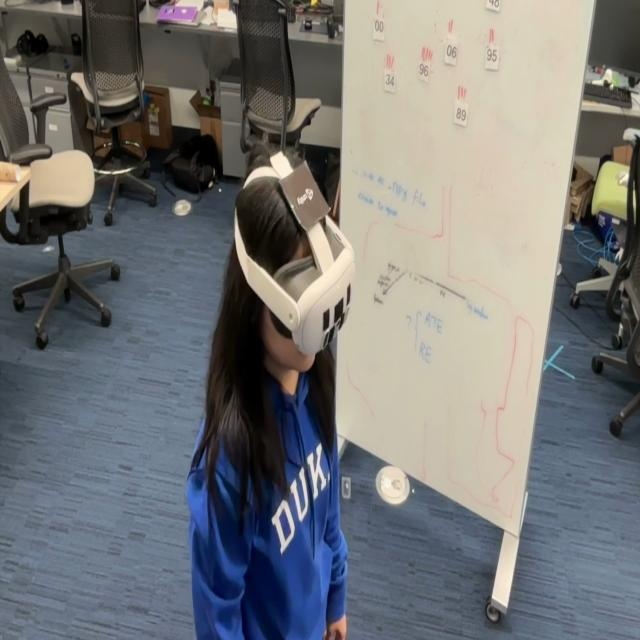Headset: (232, 152, 356, 358)
UnityLogo: (278, 157, 331, 234)
